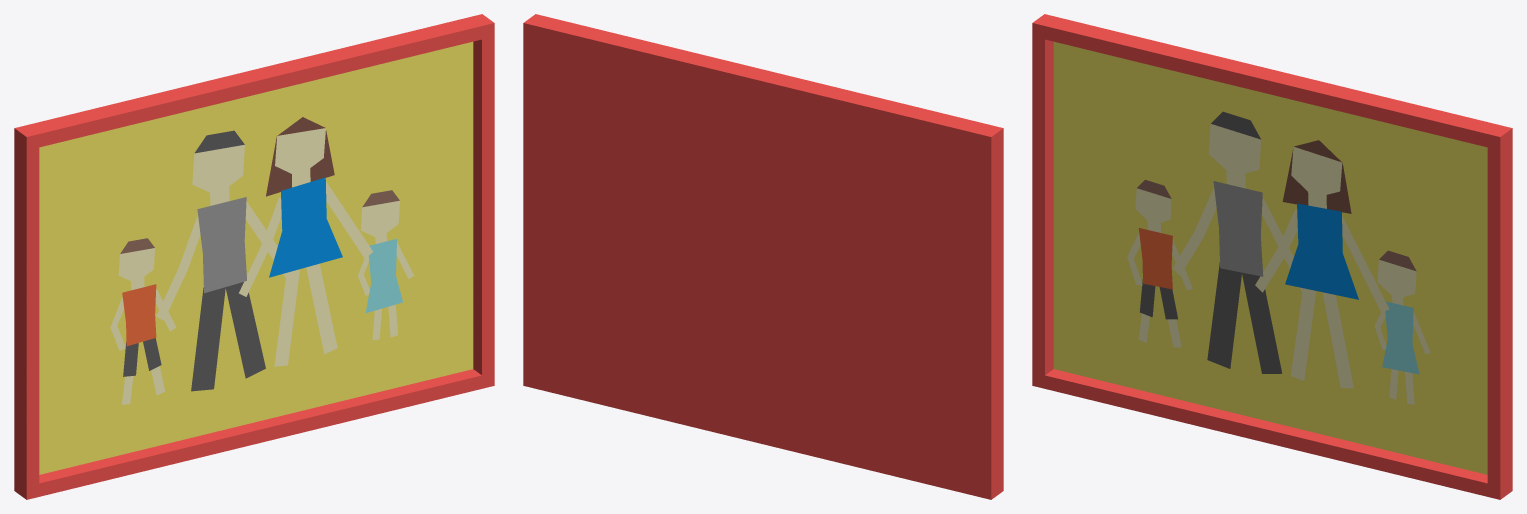
The model's file is picture_031.glb.
The picture shows the model from 3 angles, left to right: view 1: azimuth 30°, elevation 25°; view 2: azimuth 150°, elevation 25°; view 3: azimuth 330°, elevation 25°; orthographic projection.
Visible parts, largest first — view 1: picture_031; view 2: picture_031; view 3: picture_031.
Boxes of the visible parts, box(x1,y1,x2,y2) form: picture_031: box(14, 14, 494, 499); picture_031: box(523, 14, 1003, 499); picture_031: box(1032, 14, 1512, 499).
Bounding box in the file's own units: 0.5715 × 0.4235 × 0.0259.
Materials: 1 (1 with a texture image).
